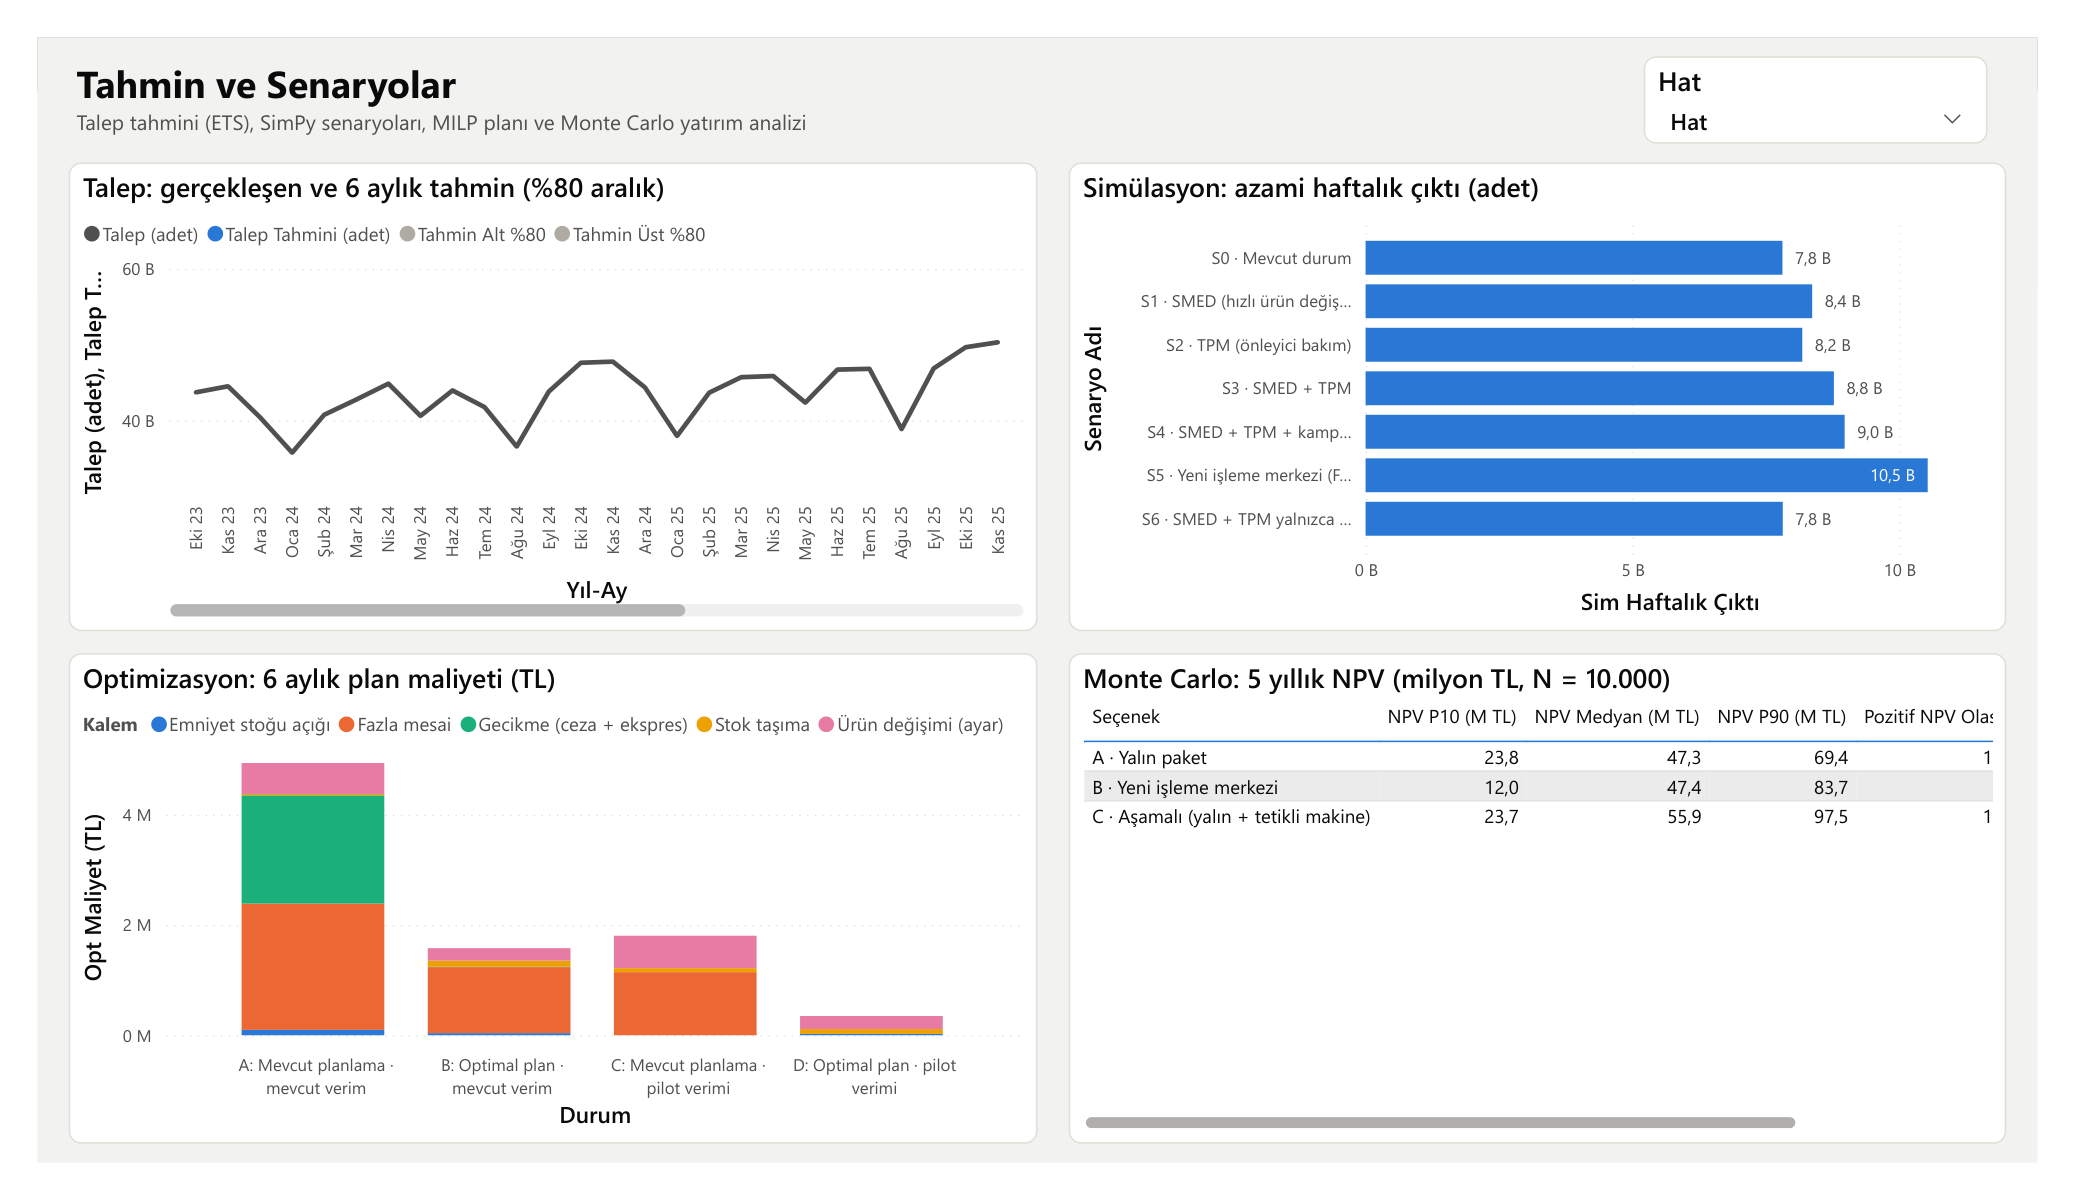

Layout of this report page (visuals, bound fields, positions):
{"tool":"powerbi","page":{"name":"Tahmin ve Senaryolar","canvas":[1280,720],"ordinal":5},"visuals":[{"type":"textbox","box":[20,8,760,60],"z":0},{"type":"slicer","title":"Hat","fields":{"Values":["DimUrun.Hat"]},"box":[1028,12,220,56],"z":1000},{"type":"lineChart","title":"Talep: gerçekleşen ve 6 aylık tahmin (%80 aralık)","fields":{"Category":["DimTarih.Yıl-Ay"],"Y":["_Ölçüler.Talep (adet)","_Ölçüler.Talep Tahmini (adet)","_Ölçüler.Tahmin Alt %80","_Ölçüler.Tahmin Üst %80"]},"box":[20,80,620,300],"z":2000},{"type":"clusteredBarChart","title":"Simülasyon: azami haftalık çıktı (adet)","fields":{"Category":["SimKapasite.Senaryo Adı"],"Y":["_Ölçüler.Sim Haftalık Çıktı"]},"box":[660,80,600,300],"z":3000},{"type":"columnChart","title":"Optimizasyon: 6 aylık plan maliyeti (TL)","fields":{"Category":["OptMaliyet.Durum"],"Series":["OptMaliyet.Kalem"],"Y":["_Ölçüler.Opt Maliyet (TL)"]},"box":[20,394,620,314],"z":4000},{"type":"tableEx","title":"Monte Carlo: 5 yıllık NPV (milyon TL, N = 10.000)","fields":{"Values":["FinansOzet.Seçenek","FinansOzet.NPV P10 (M TL)","FinansOzet.NPV Medyan (M TL)","FinansOzet.NPV P90 (M TL)","FinansOzet.Pozitif NPV Olasılığı","FinansOzet.En İyi Seçenek Olasılığı"]},"box":[660,394,600,314],"z":5000}]}

Visuals, with their boxes on the page's 1280x720 design canvas (x1, y1, x2, y2). These are canvas units, not pixel positions in the 2075x1200 screenshot, which may show the page scaled, cropped or inside an application window:
textbox: Rect(20, 8, 780, 68)
"Hat" slicer: Rect(1028, 12, 1248, 68)
"Talep: gerçekleşen ve 6 aylık tahmin (%80 aralık)" lineChart: Rect(20, 80, 640, 380)
"Simülasyon: azami haftalık çıktı (adet)" clusteredBarChart: Rect(660, 80, 1260, 380)
"Optimizasyon: 6 aylık plan maliyeti (TL)" columnChart: Rect(20, 394, 640, 708)
"Monte Carlo: 5 yıllık NPV (milyon TL, N = 10.000)" tableEx: Rect(660, 394, 1260, 708)
